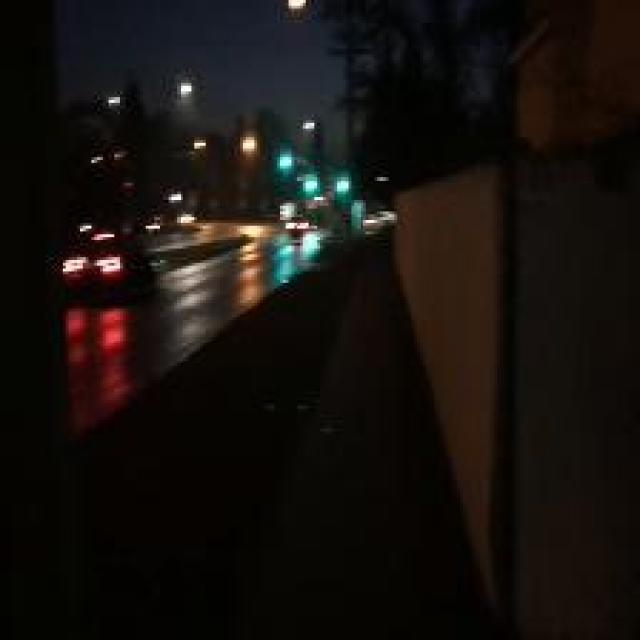other: (44, 221, 134, 412), (229, 118, 264, 317)
